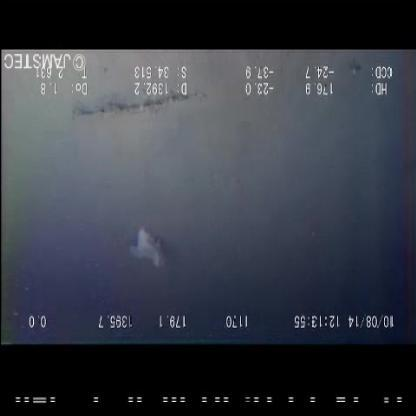Rác: (124, 218, 172, 278)
